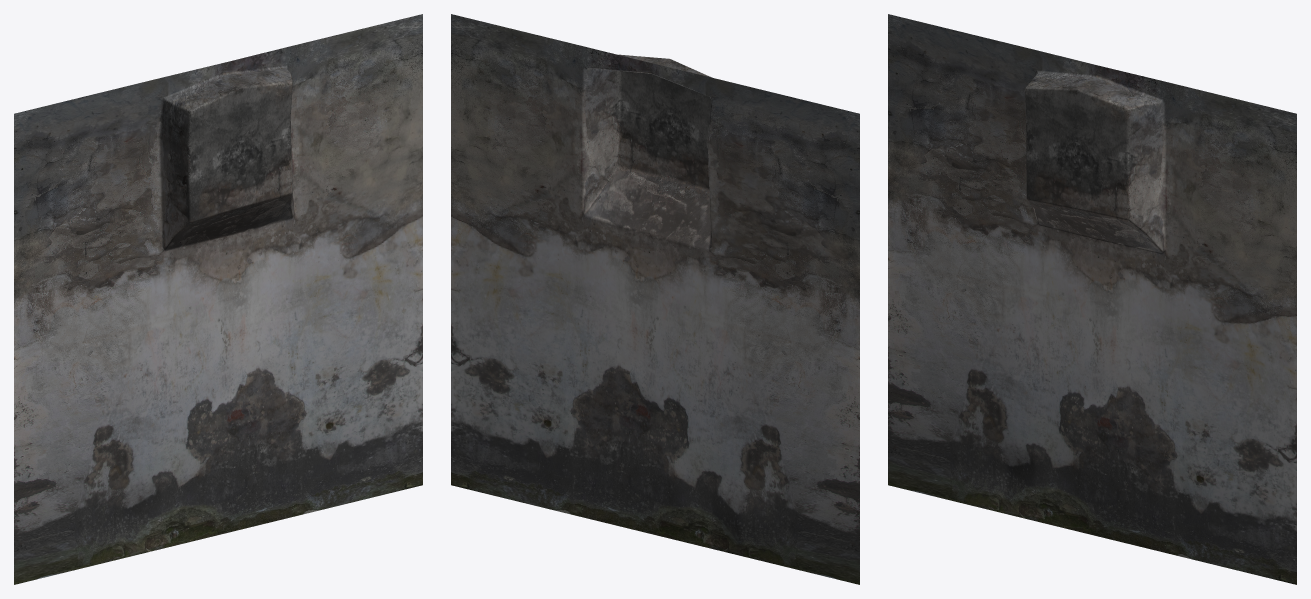
The model's file is SM_CryptWall_01_04.fbx.
3 views of the same model, side by side, from view 1: azimuth 30°, elevation 25°; view 2: azimuth 150°, elevation 25°; view 3: azimuth 330°, elevation 25° (orthographic).
Visible parts, largest first — view 1: sm_CryptWall_01_04_LOD0; view 2: sm_CryptWall_01_04_LOD0; view 3: sm_CryptWall_01_04_LOD0.
Part boxes in pixels (x1,y1,x2,y2): sm_CryptWall_01_04_LOD0: [14, 14, 422, 584]; sm_CryptWall_01_04_LOD0: [451, 14, 859, 584]; sm_CryptWall_01_04_LOD0: [888, 14, 1296, 584].
Bounding box in the file's own units: 26.02 × 250 × 275.
